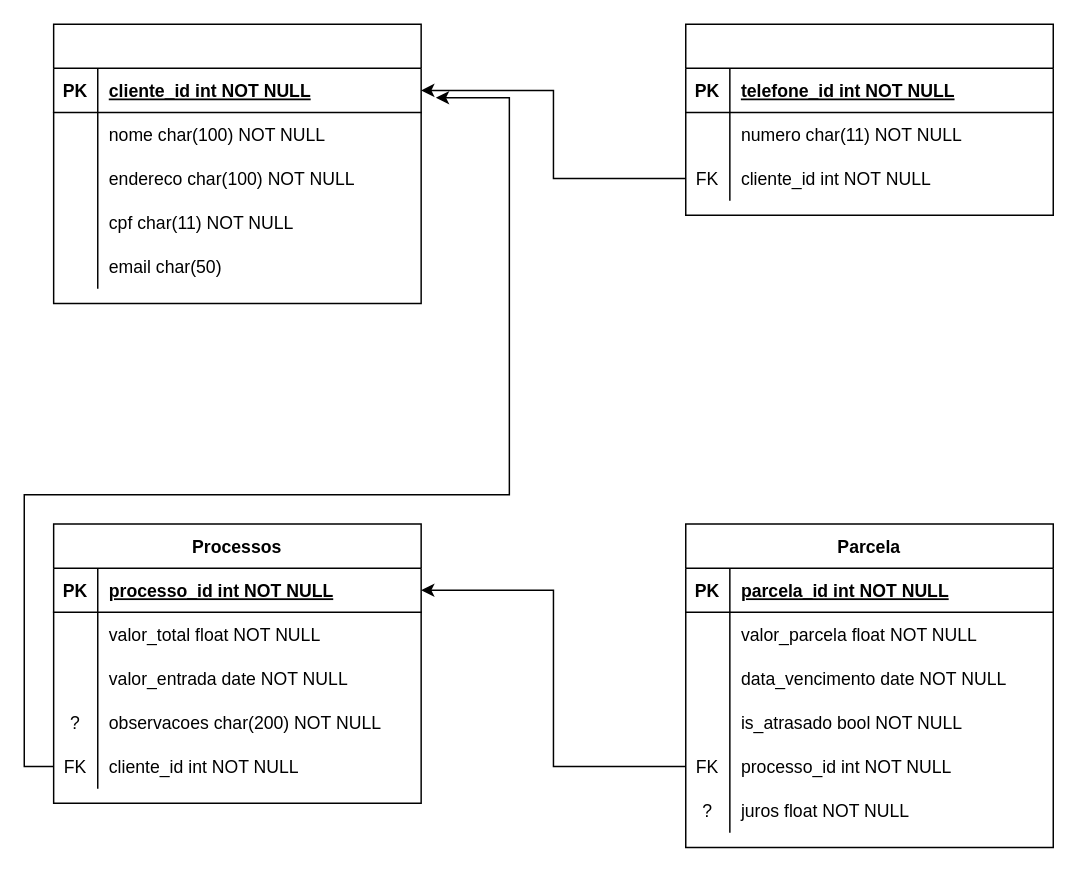
Image size: 1078x872. Some labels were removed from this diagram. The shapes that lost their labels are listed below. From the top down, each one's box as (x1, y1, x2, y2) in pixels, then its label:
(684, 23, 1053, 215): Telefones
(52, 23, 421, 304): Clientes
